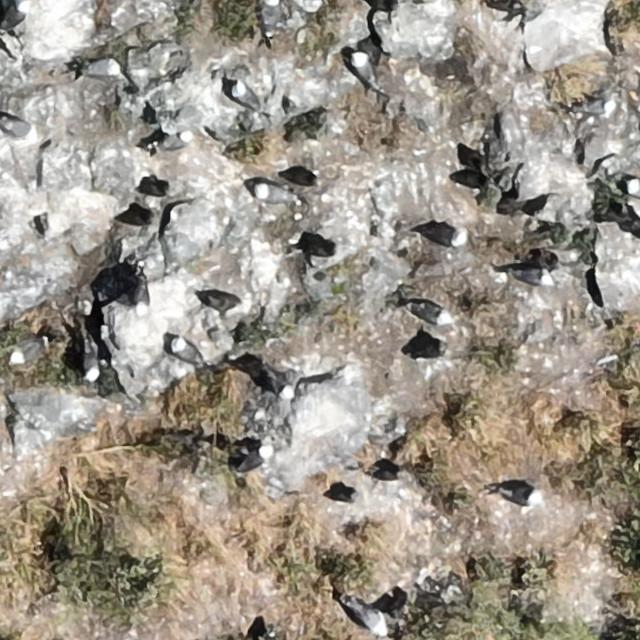umineko: (346, 596, 388, 636), (257, 361, 296, 399), (232, 443, 275, 475), (229, 81, 268, 115), (497, 480, 544, 507), (512, 265, 556, 287), (420, 225, 464, 246), (154, 130, 194, 153), (261, 0, 283, 37), (411, 302, 446, 323), (11, 338, 41, 362), (354, 53, 375, 85), (173, 339, 200, 363), (3, 118, 33, 139), (256, 186, 290, 204), (85, 59, 118, 76), (208, 292, 235, 310), (83, 350, 98, 380), (135, 286, 148, 314), (626, 180, 639, 201)
